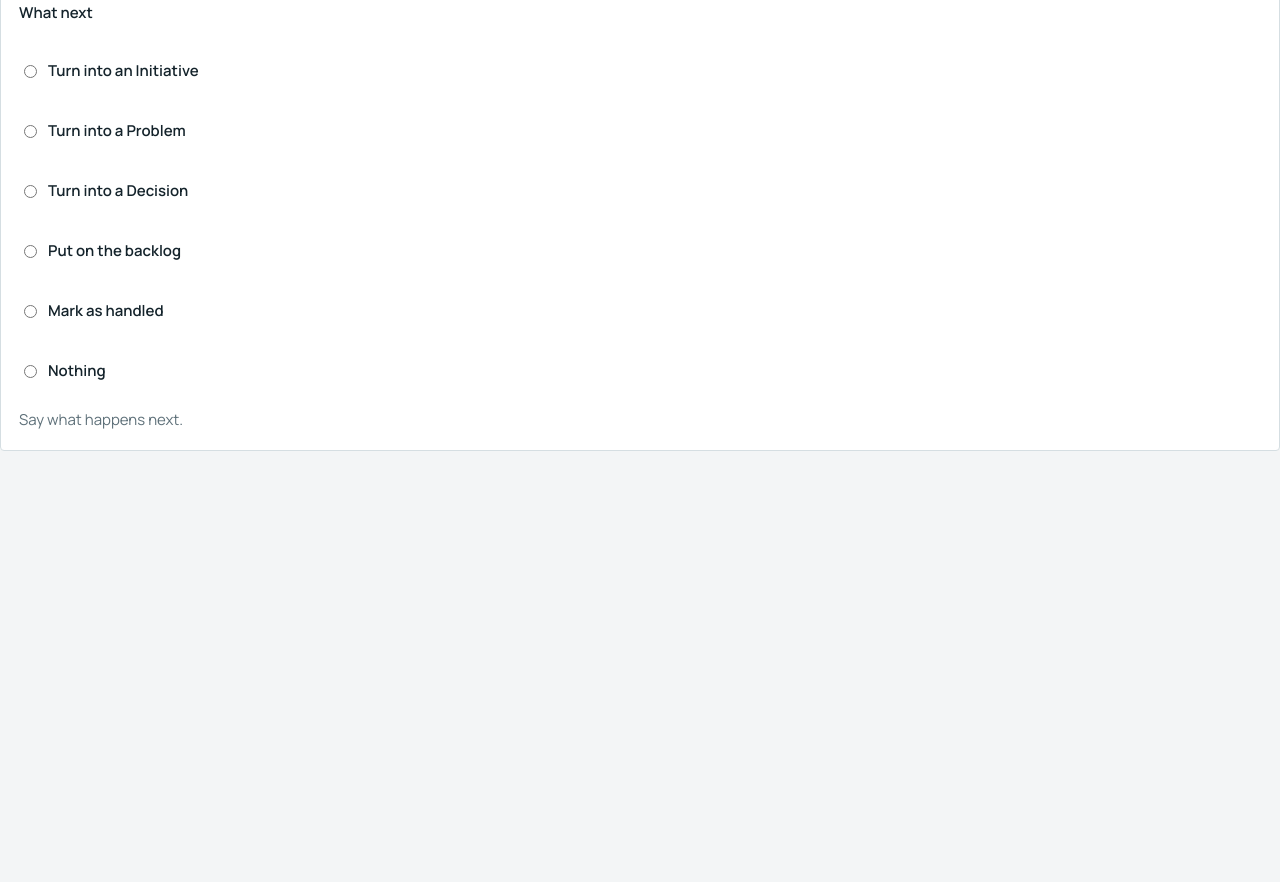
Test: what next lists the six kinds, pre-fills the Initiative with the chip, and reports the choice
Expected: the text "Say what happens next." is shown, [19, 409, 183, 430]
Click the radio button labelled "Turn into an Initiative". click: (30, 72)
box: [24, 65, 37, 78]
(page scrolled)
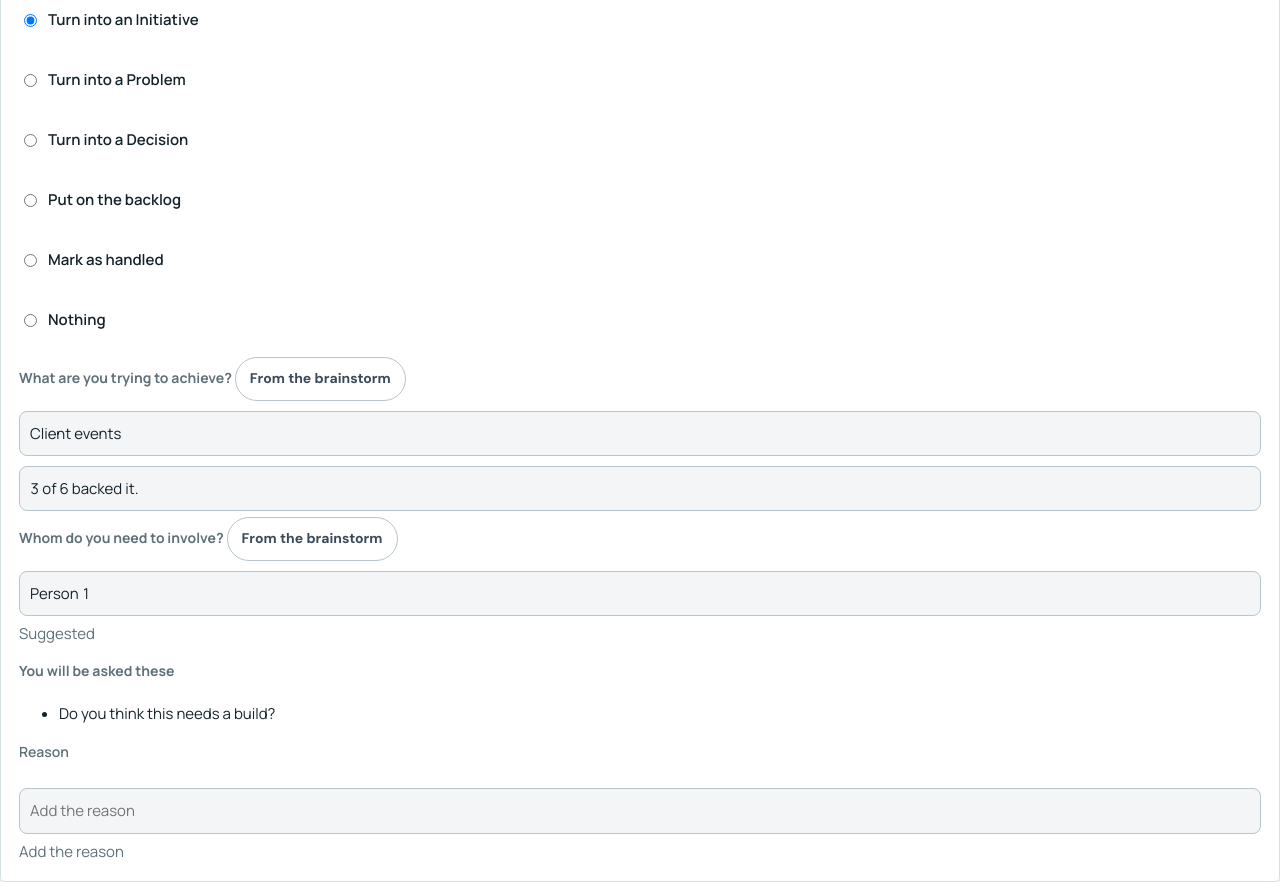
Expected: the text "From the brainstorm" is shown 2 times, [235, 357, 406, 401]; [226, 517, 398, 561]
Expected: the list item "Do you think this needs a build?" is shown, [59, 703, 275, 724]
Expected: the text "Add the reason" is shown, [19, 840, 124, 862]
Type "It was the most backed." into the field labelled "Reason". click: (640, 811)
box: [19, 788, 1261, 834]
(page scrolled)
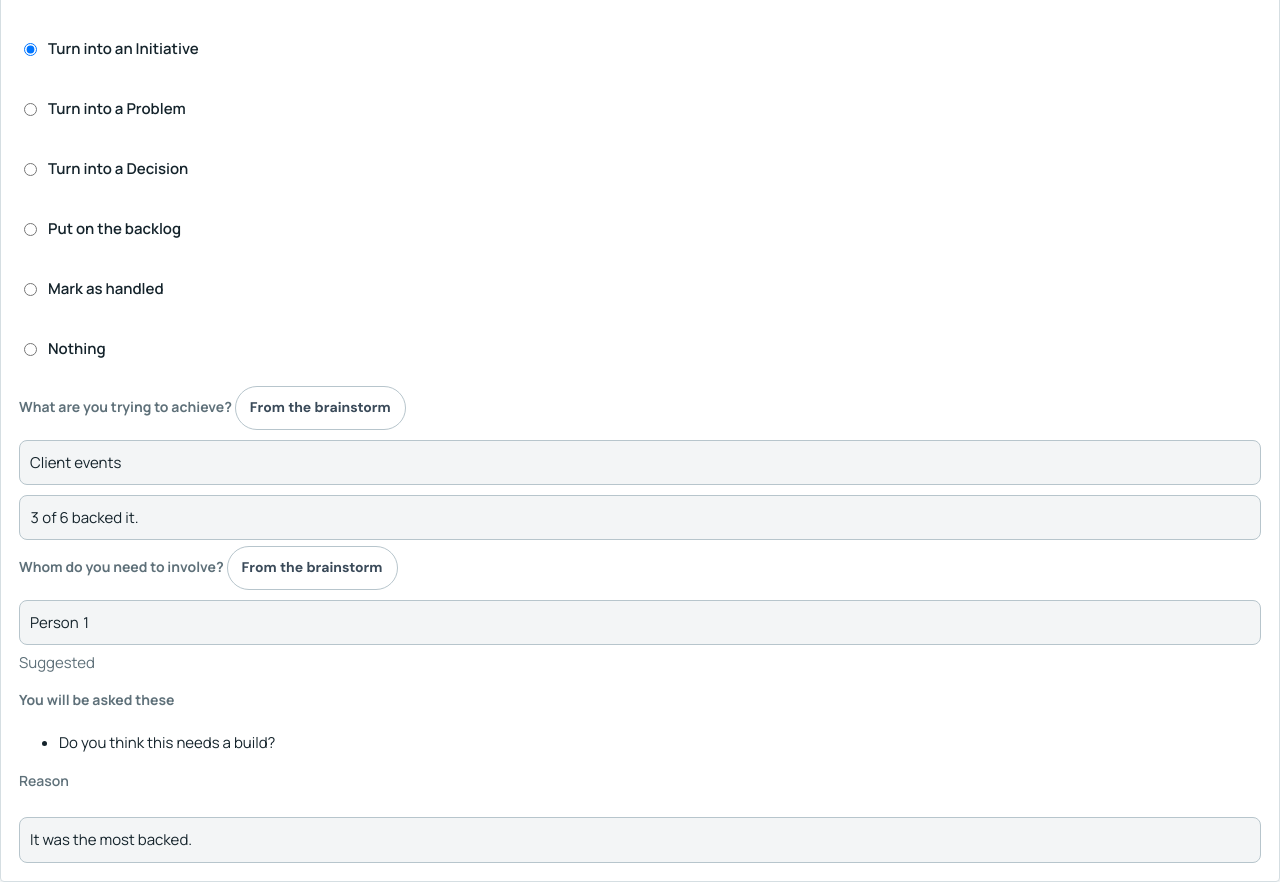
Click the radio button labelled "Put on the backlog". click: (30, 230)
box: [24, 223, 37, 236]
(page scrolled)
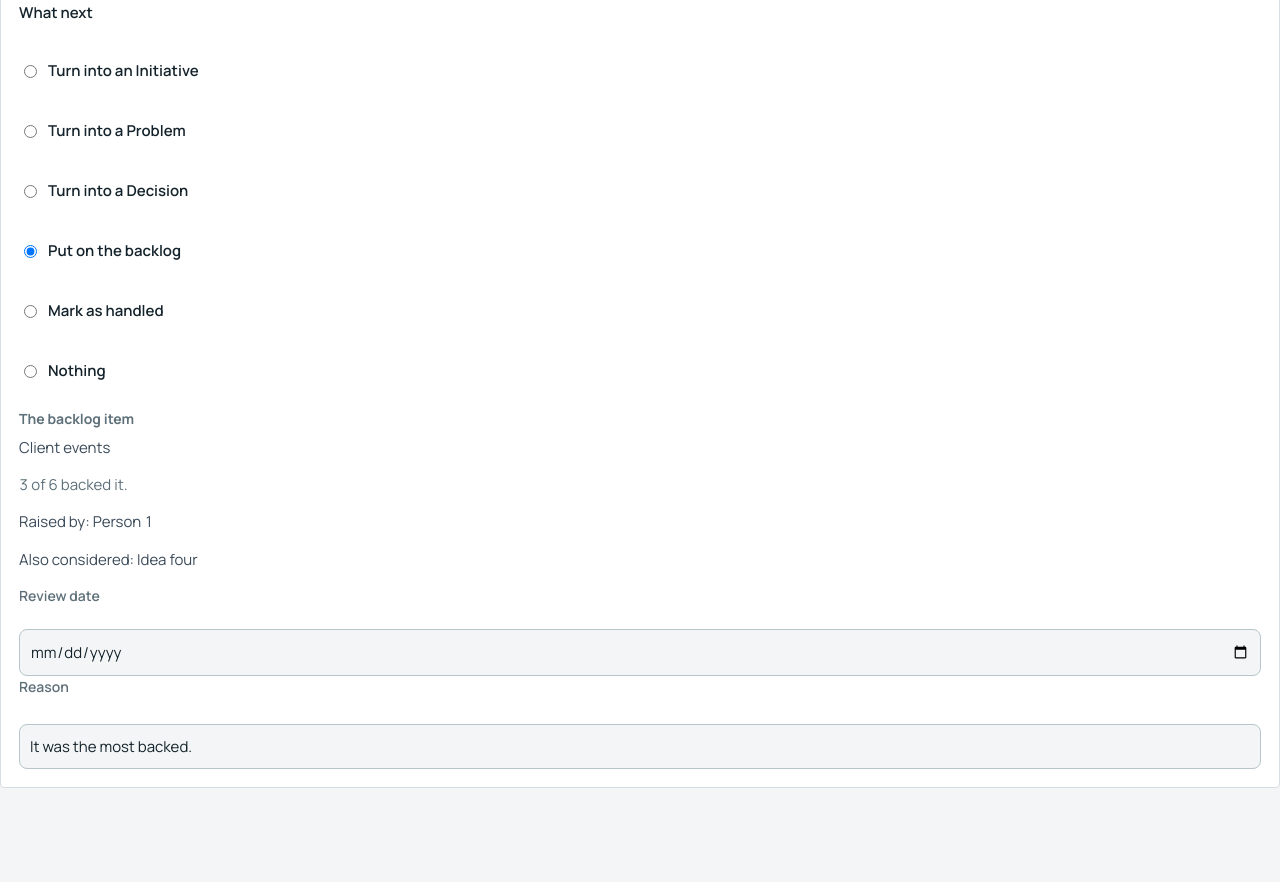
Expected: the text "Idea four" is shown, [137, 549, 198, 570]
